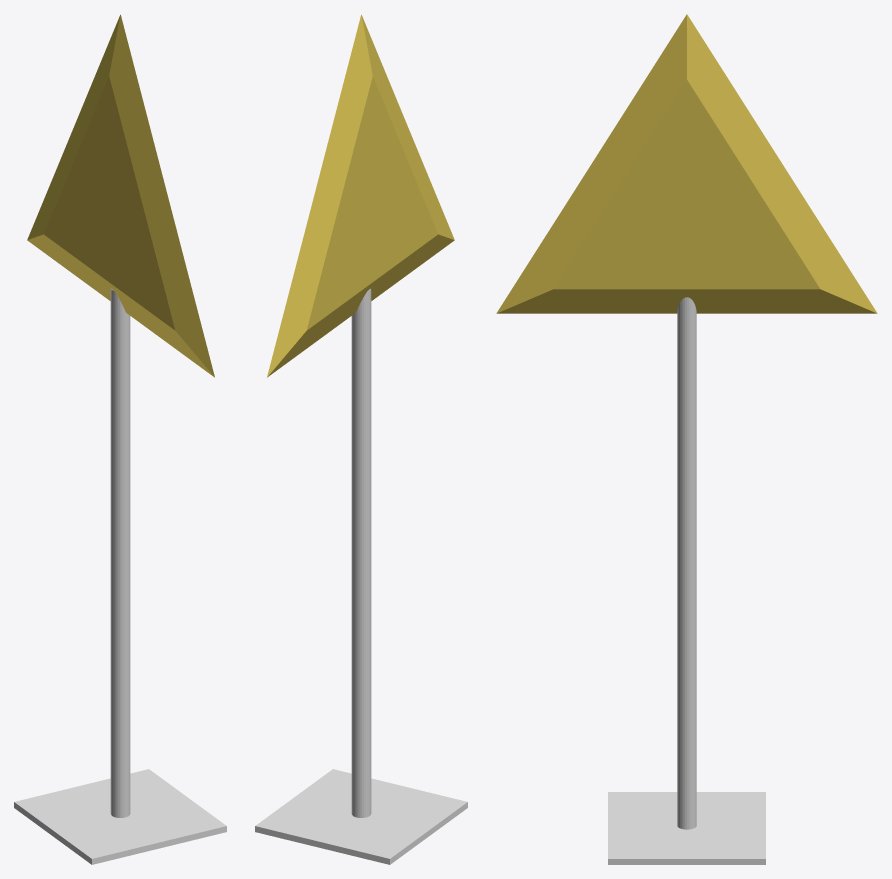
The model's file is placa 2.fbx.
The picture shows the model from 3 angles, left to right: view 1: azimuth 30°, elevation 25°; view 2: azimuth 150°, elevation 25°; view 3: azimuth 270°, elevation 25°; orthographic projection.
Parts seen in each view (by area): view 1: Torus; view 2: Torus; view 3: Torus.
Boxes of the visible parts, x1=… form: Torus: x1=14, y1=14, x2=226, y2=864; Torus: x1=255, y1=14, x2=467, y2=864; Torus: x1=496, y1=14, x2=877, y2=864.
Size of the model in its own units: 26.2 by 150 by 63.26.
